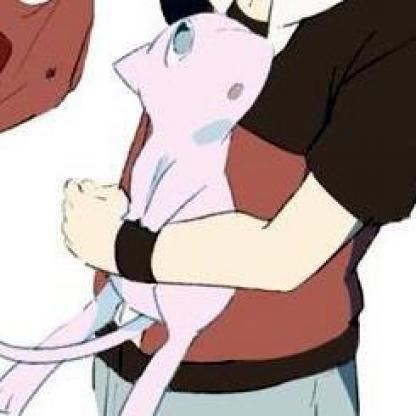Mew: (1, 1, 416, 416)
